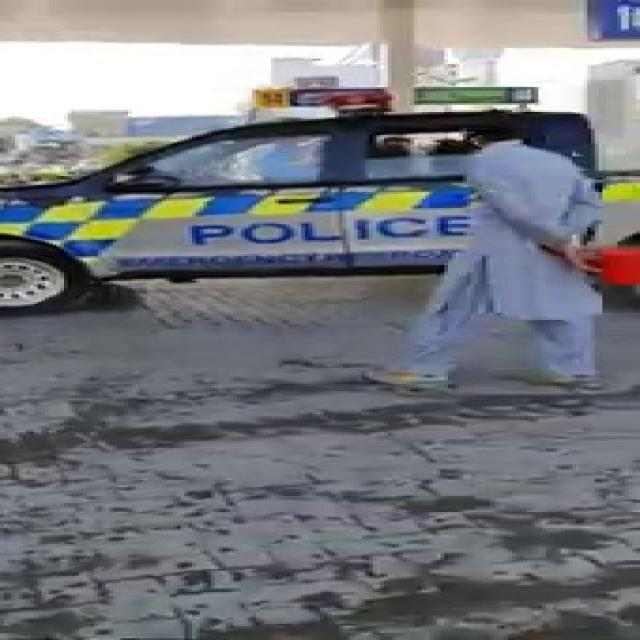police: (0, 61, 614, 276)
